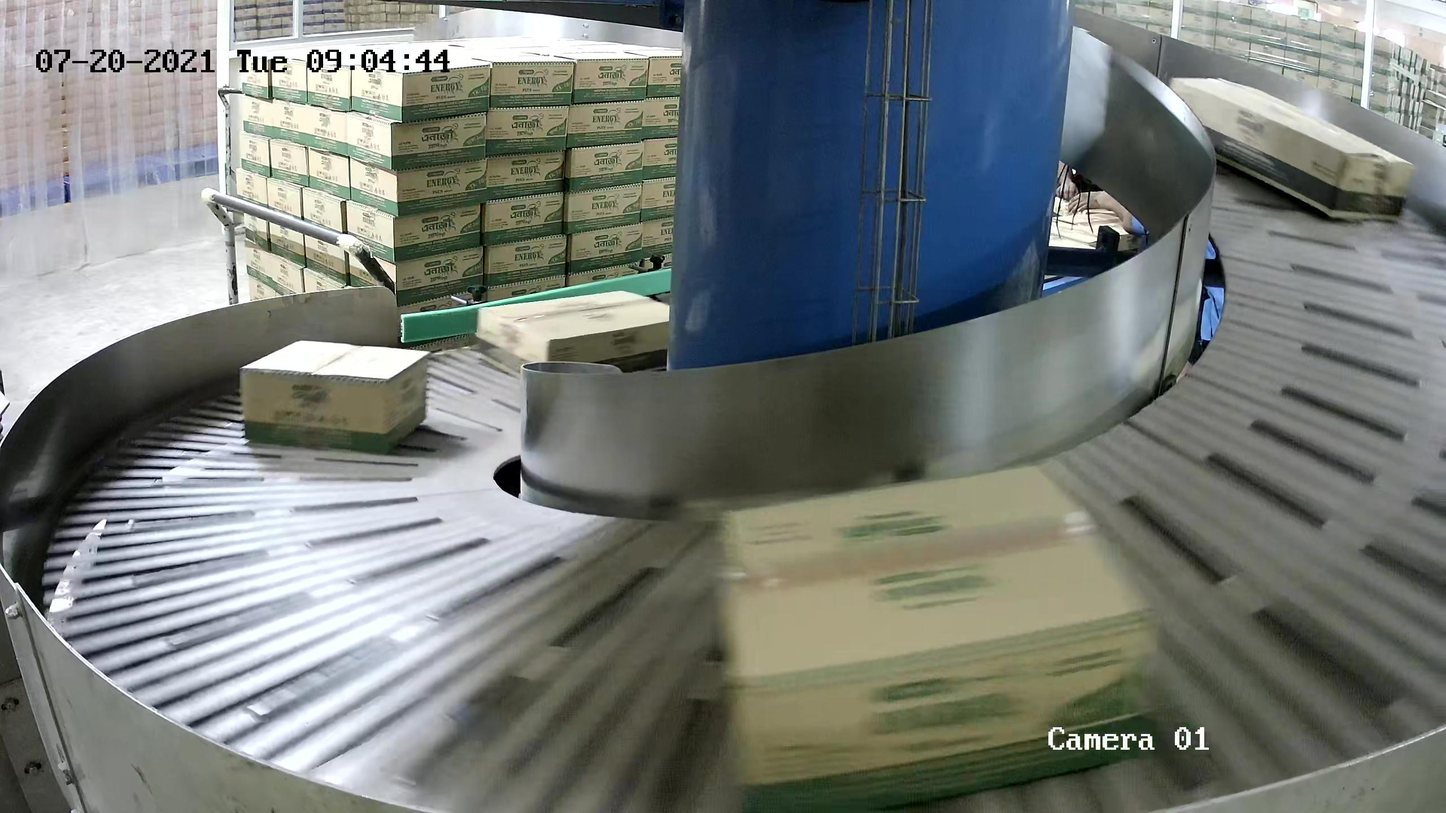Box: (712, 460, 1163, 813), (1168, 75, 1419, 222), (238, 339, 432, 456), (474, 288, 670, 384)
